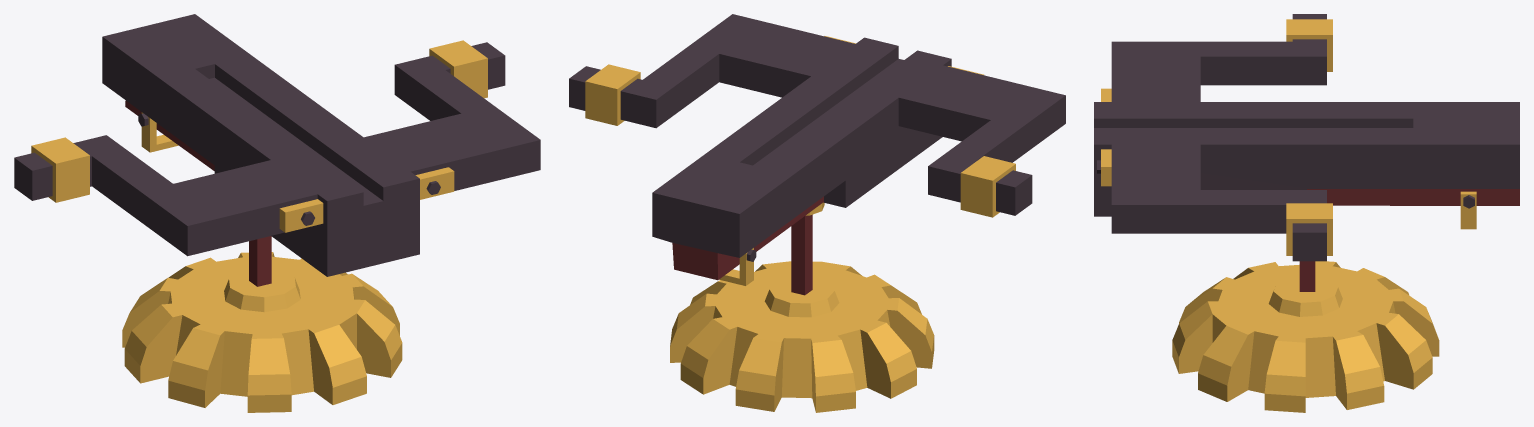
The model's file is xbow.fbx.
3 views of the same model, side by side, from view 1: azimuth 30°, elevation 25°; view 2: azimuth 150°, elevation 25°; view 3: azimuth 270°, elevation 25° (orthographic). The views are drawn at different scales.
Parts seen in each view (by area): view 1: moving_part3, pasted__polySurface115; view 2: moving_part3, pasted__polySurface115; view 3: moving_part3, pasted__polySurface115.
Part boxes in pixels (x1,y1,x2,y2): moving_part3: [14, 14, 540, 286]; pasted__polySurface115: [122, 252, 402, 412]; moving_part3: [569, 14, 1065, 295]; pasted__polySurface115: [670, 261, 934, 412]; moving_part3: [1094, 14, 1519, 291]; pasted__polySurface115: [1172, 261, 1439, 412].
Size of the model in its own units: 363 by 202 by 299.
